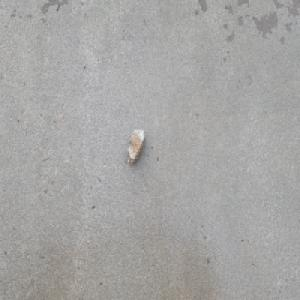Rock: (126, 128, 146, 164)
